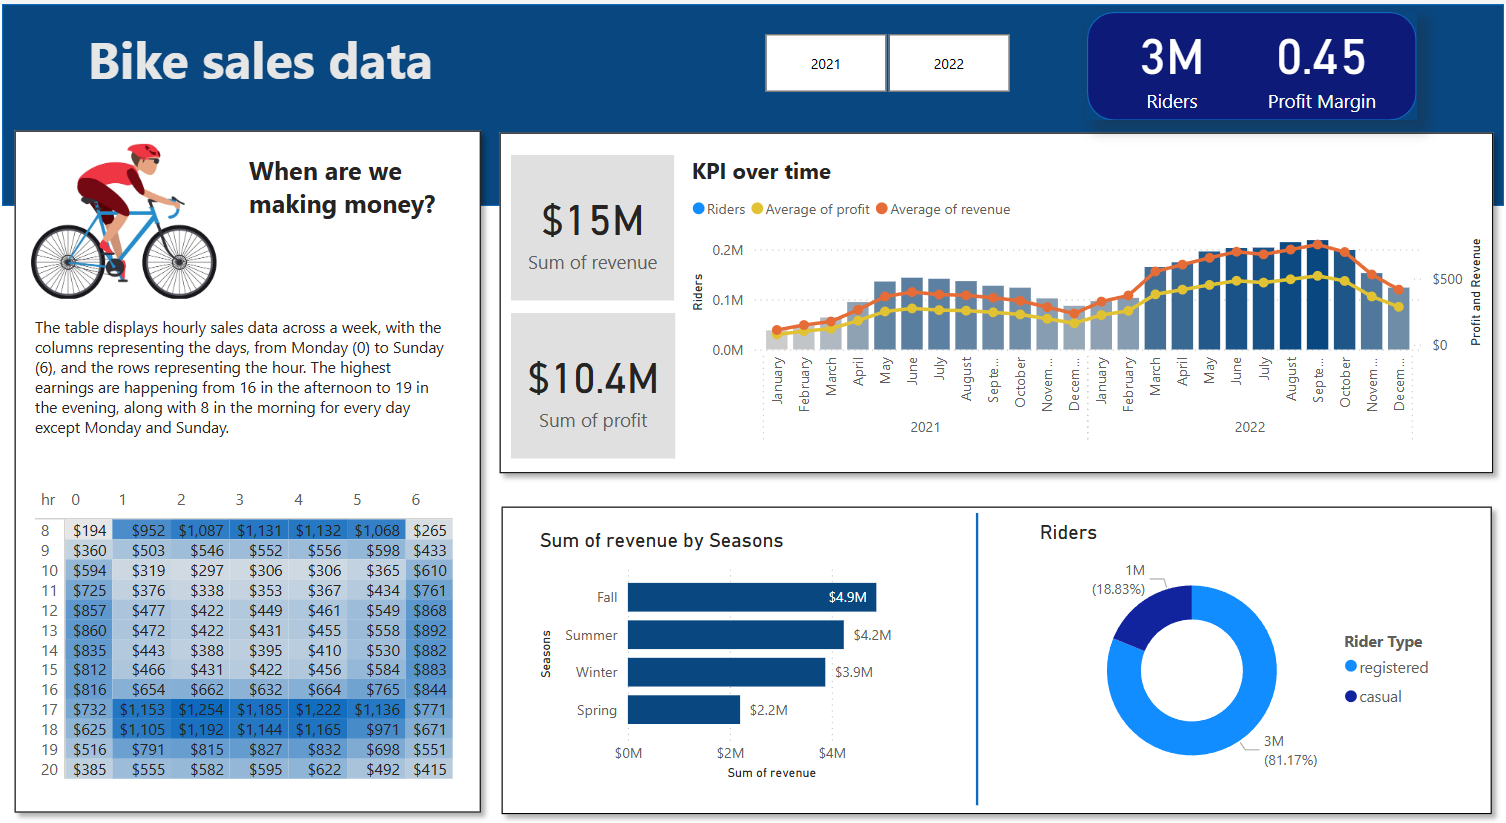

Layout of this report page (visuals, bound fields, positions):
{"tool":"powerbi","page":{"name":"Page 1","canvas":[1280,720],"ordinal":0},"visuals":[{"type":"shape","box":[0,0,1280,172.2],"z":0},{"type":"shape","box":[1.9,99.2,415.3,599.1],"z":1000},{"type":"shape","box":[415.3,100.2,864.7,308.3],"z":2000},{"type":"shape","box":[924.8,6.8,280.8,92.5],"z":3000},{"type":"shape","box":[416.3,419.2,861.8,280.1],"z":4000},{"type":"shape","box":[792.7,433.8,76.8,249],"z":5000},{"type":"lineClusteredColumnComboChart","title":"KPI over time","fields":{"Category":["Query1.dteday.Variation.Date Hierarchy.Year","Query1.dteday.Variation.Date Hierarchy.Month"],"Y":["Sum(Query1.riders)"],"Y2":["Avg(Query1.profit)","Avg(Query1.revenue)"]},"box":[582.6,129.4,683.8,252.9],"z":6000},{"type":"barChart","fields":{"Category":["Query1.Seasons"],"Y":["Sum(Query1.revenue)"]},"box":[453.3,446.4,342.4,218.8],"z":7000},{"type":"pivotTable","fields":{"Values":["Avg(Query1.revenue)"],"Columns":["Query1.weekday"],"Rows":["Query1.hr"]},"box":[23.3,408.5,371.6,257.8],"z":8000},{"type":"textbox","box":[205.2,121.6,180.9,78.8],"z":9000},{"type":"image","box":[12.6,113.8,181.9,142],"z":10000},{"type":"donutChart","title":"Riders","fields":{"Category":["Query1.rider_type"],"Y":["Sum(Query1.riders)"]},"box":[879.3,439.6,353.1,235.4],"z":11000},{"type":"slicer","fields":{"Values":["Query1.Years"]},"box":[624.4,18.5,257.8,63.2],"z":12000},{"type":"card","fields":{"Values":["Sum(Query1.revenue)"]},"box":[433.8,128.4,139.1,124.5],"z":13000},{"type":"card","fields":{"Values":["Sum(Query1.profit)"]},"box":[433.8,263.6,140.1,124.5],"z":14000},{"type":"card","title":"Profit Margin","fields":{"Values":["Query1.Profit Margin"]},"box":[1065.7,0,117.3,101.5],"z":15000},{"type":"card","title":"Profit Margin","fields":{"Values":["Sum(Query1.riders)"]},"box":[938.3,0,117.3,101.5],"z":16000},{"type":"textbox","box":[68.1,12.6,306.4,70],"z":17000},{"type":"textbox","box":[23.3,261.6,362.8,127.4],"z":18000}]}

Visuals, with their boxes in screenshot pixels (x1, y1, x2, y2), scaled from the page's 1280x720 canvas onto the 1506x823 screenshot:
shape: (left=0, top=0, right=1505, bottom=197)
shape: (left=2, top=113, right=491, bottom=798)
shape: (left=489, top=115, right=1505, bottom=467)
shape: (left=1088, top=8, right=1418, bottom=114)
shape: (left=490, top=479, right=1504, bottom=799)
shape: (left=933, top=496, right=1023, bottom=780)
"KPI over time" lineClusteredColumnComboChart: (left=685, top=148, right=1490, bottom=437)
barChart - Query1.Seasons x Sum(Query1.revenue): (left=533, top=510, right=936, bottom=760)
pivotTable - Avg(Query1.revenue) x Query1.weekday: (left=27, top=467, right=465, bottom=762)
textbox: (left=241, top=139, right=454, bottom=229)
image: (left=15, top=130, right=229, bottom=292)
"Riders" donutChart: (left=1035, top=502, right=1450, bottom=772)
slicer - Query1.Years: (left=735, top=21, right=1038, bottom=93)
card - Sum(Query1.revenue): (left=510, top=147, right=674, bottom=289)
card - Sum(Query1.profit): (left=510, top=301, right=675, bottom=444)
"Profit Margin" card: (left=1254, top=0, right=1392, bottom=116)
"Profit Margin" card: (left=1104, top=0, right=1242, bottom=116)
textbox: (left=80, top=14, right=441, bottom=94)
textbox: (left=27, top=299, right=454, bottom=445)
